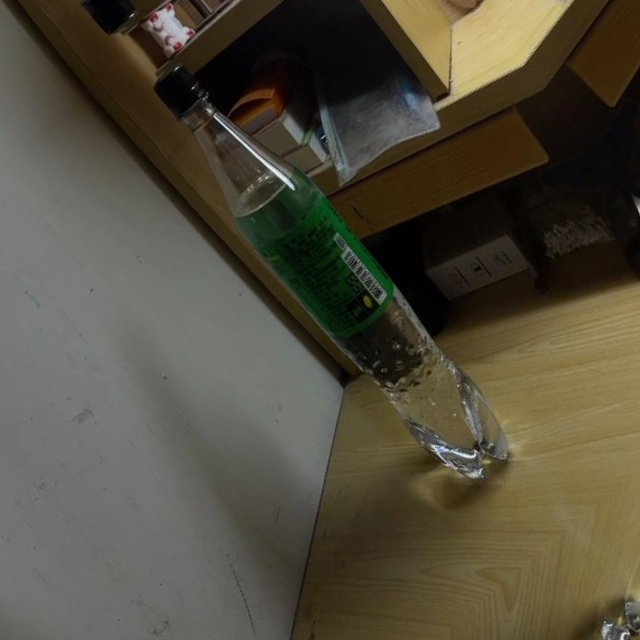Sprite: (129, 47, 529, 499)
